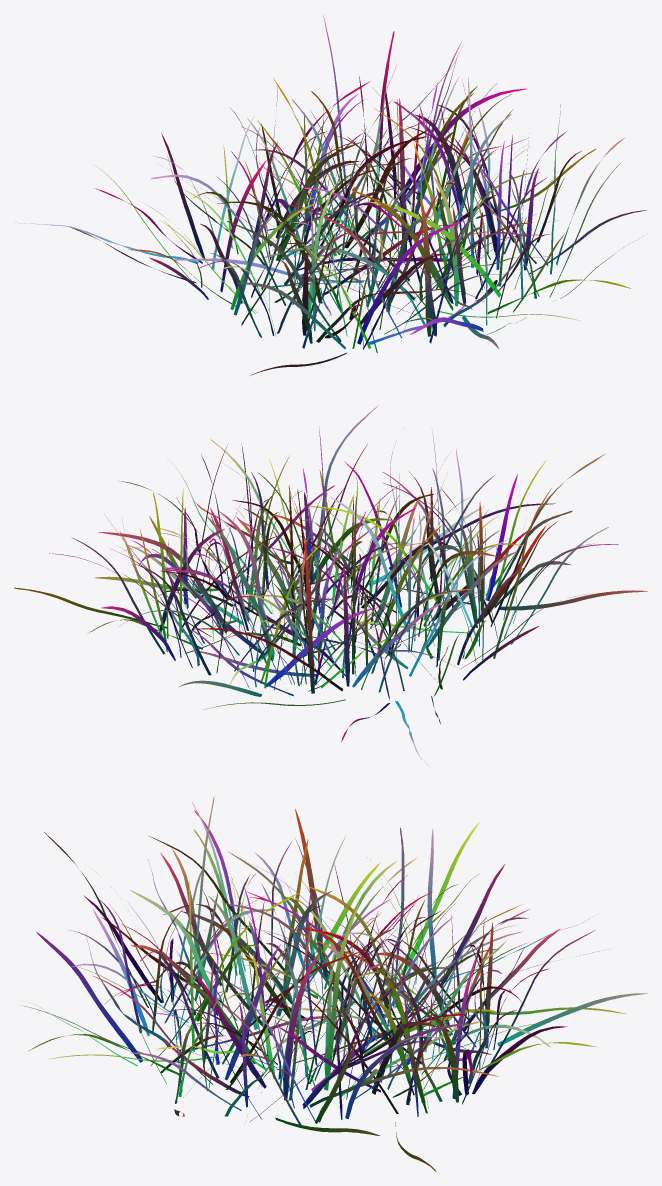
The model's file is Wild_Grass_vlkhcbxia_Raw_vlkhcbxia_VarC_LOD0.fbx.
3 views of the same model, one above another, from view 1: azimuth 30°, elevation 25°; view 2: azimuth 150°, elevation 25°; view 3: azimuth 270°, elevation 25° (orthographic). The views are drawn at different scales.
Parts seen in each view (by area): view 1: _vycg_VarC_High; view 2: _vycg_VarC_High; view 3: _vycg_VarC_High.
Part boxes in pixels (left/top/right/bottom): _vycg_VarC_High: left=15, top=14, right=646, bottom=375; _vycg_VarC_High: left=14, top=405, right=647, bottom=766; _vycg_VarC_High: left=18, top=796, right=647, bottom=1171.
Bounding box in the file's own units: 49.56 × 15.33 × 47.51.
